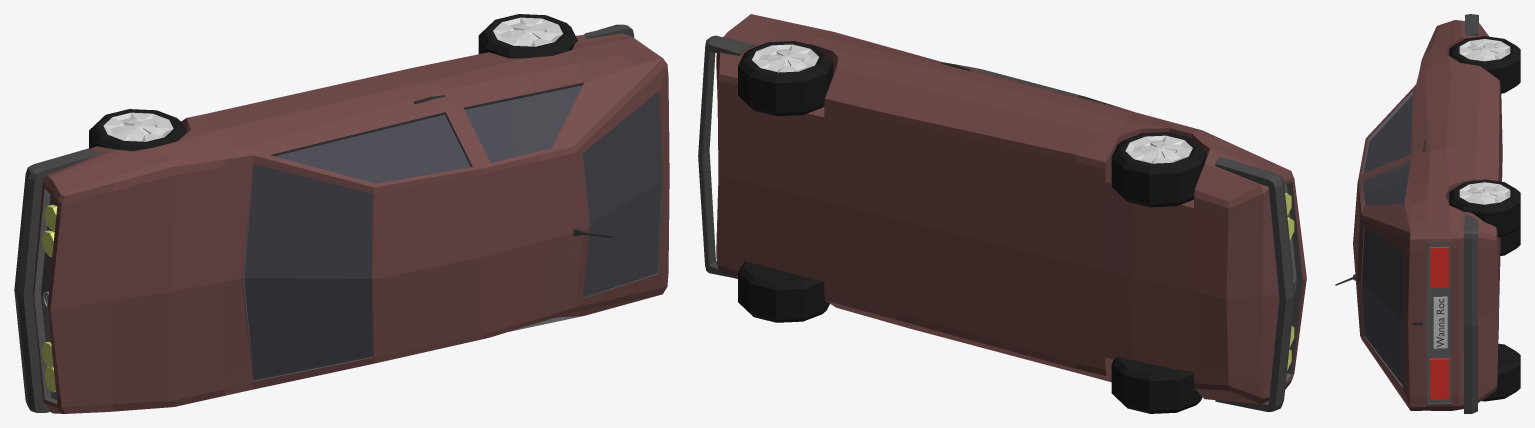
File: volks.fbx
3 renders of one model, left to right at view 1: azimuth 30°, elevation 25°; view 2: azimuth 150°, elevation 25°; view 3: azimuth 270°, elevation 25°, orthographic. The views are drawn at different scales.
Visible parts, largest first — view 1: Car_Body, Wheel_FR.001, Wheel_FR; view 2: Car_Body, Wheel_FR.001, Wheel_FR, Wheel_FL.001, Wheel_FL; view 3: Car_Body, Wheel_FR.001, Wheel_FR, Wheel_FL.001, Wheel_FL.
Part boxes in pixels (box(x1,y1,x2,y2)): Car_Body: box(14, 24, 669, 413); Wheel_FR.001: box(478, 14, 577, 58); Wheel_FR: box(89, 109, 186, 151); Car_Body: box(698, 14, 1306, 411); Wheel_FR.001: box(738, 41, 832, 116); Wheel_FR: box(1111, 132, 1206, 207); Wheel_FL.001: box(738, 261, 829, 322); Wheel_FL: box(1111, 356, 1202, 413); Car_Body: box(1335, 14, 1502, 413); Wheel_FR.001: box(1449, 179, 1520, 237); Wheel_FR: box(1449, 36, 1520, 93); Wheel_FL.001: box(1481, 343, 1520, 401); Wheel_FL: box(1500, 226, 1520, 255).
Size of the model in its own units: 6.12 by 2.46 by 2.1.
